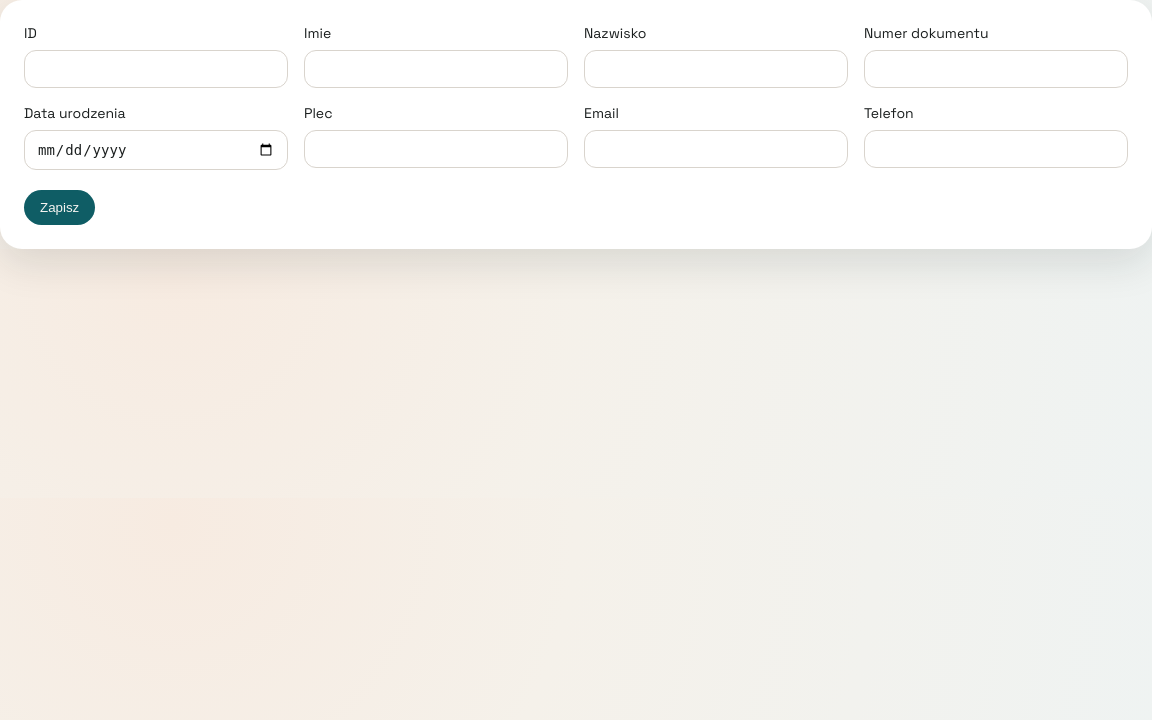
Test: T-UNIT-01: Walidacja formularza przed wyslaniem › shows error when telefon contains letters
Type "Anna" into the field labelled "Imie" at (436, 69), box [304, 50, 568, 88]
Type "Kowalska" into the field labelled "Nazwisko" at (716, 69), box [584, 50, 848, 88]
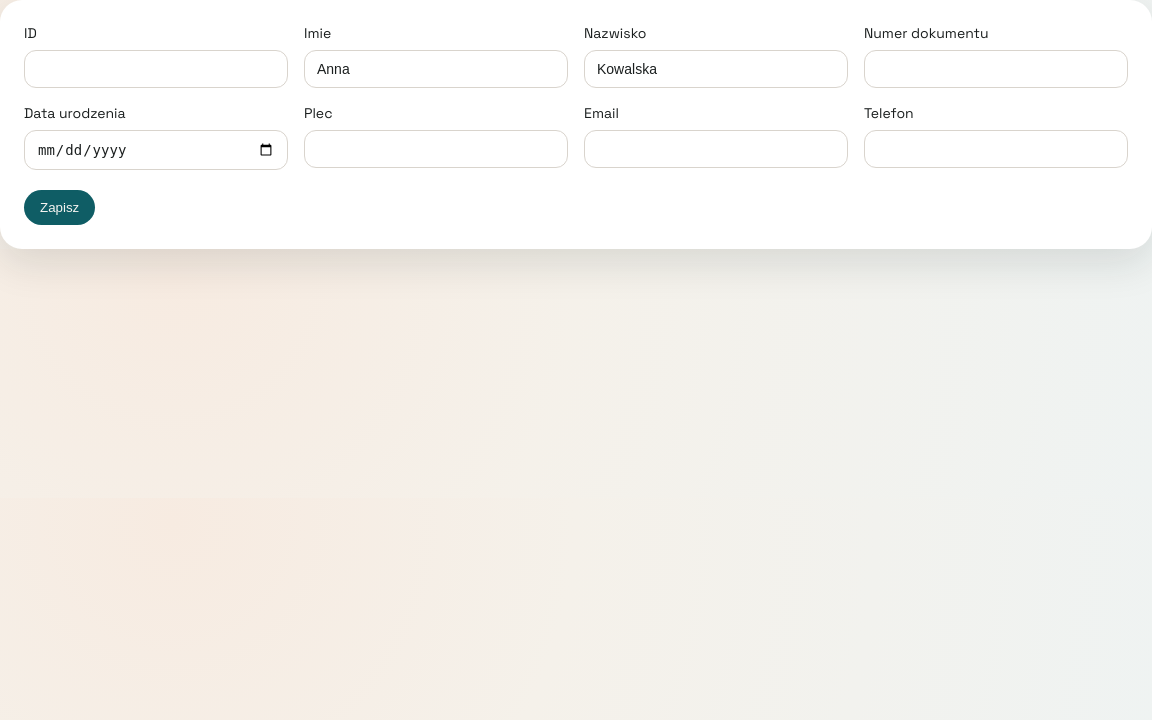
Type "ABC123456" into the field labelled "Numer dokumentu" at (996, 69), box [864, 50, 1128, 88]
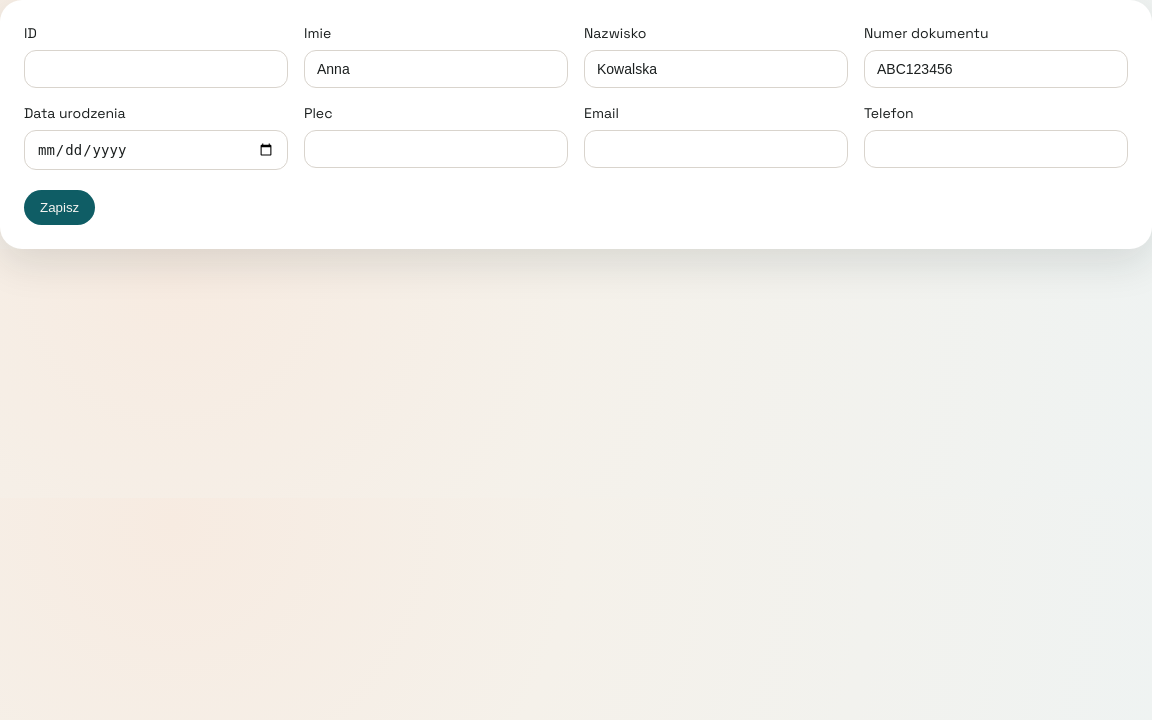
Type "1990-01-01" into the date field labelled "Data urodzenia" at (156, 150), box [24, 130, 288, 170]
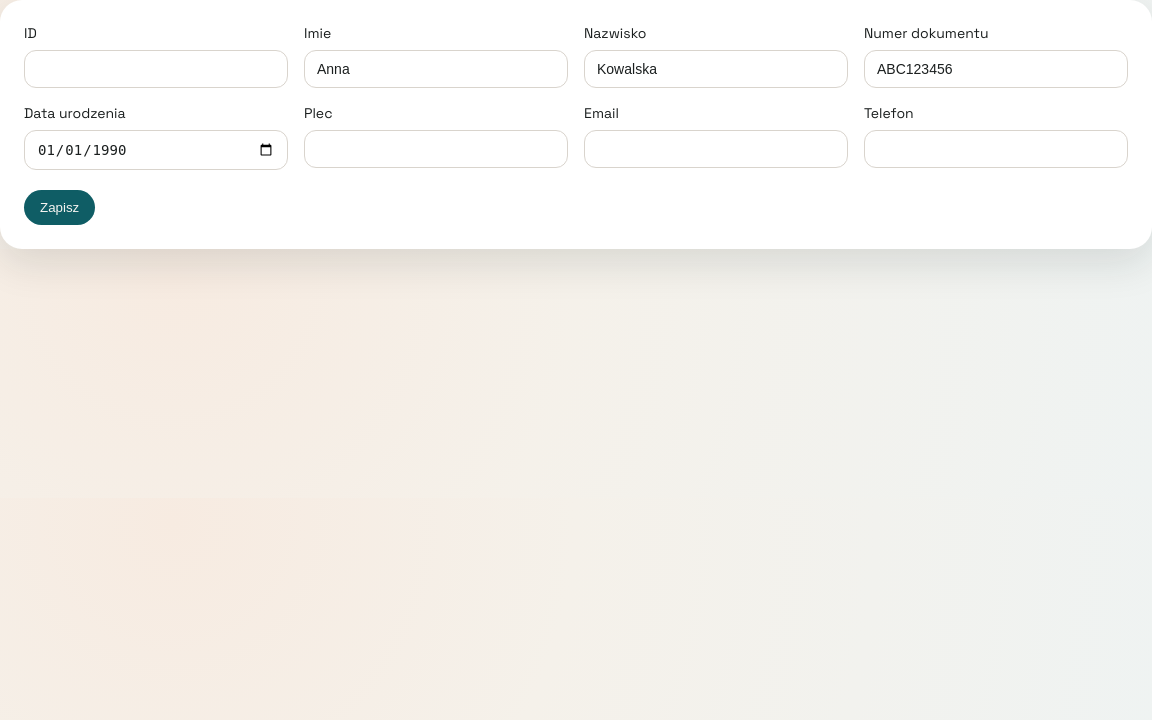
Type "K" into the field labelled "Plec" at (436, 149), box [304, 130, 568, 168]
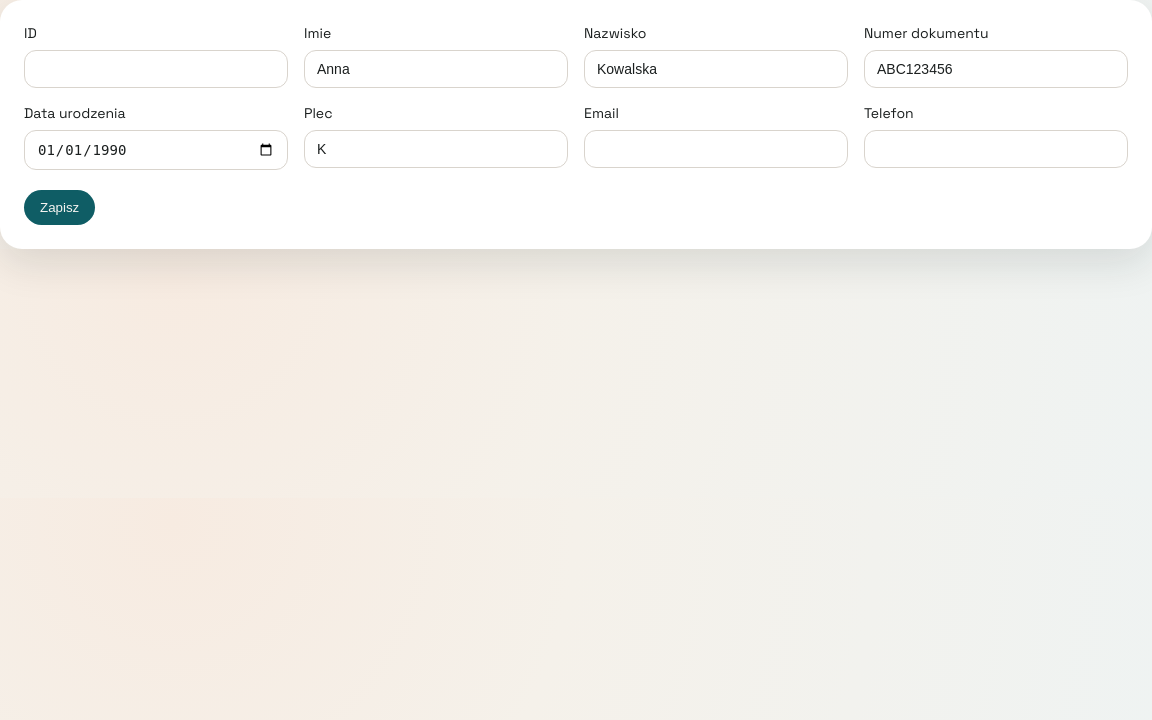
Type "abcde" into the field labelled "Telefon" at (996, 149), box [864, 130, 1128, 168]
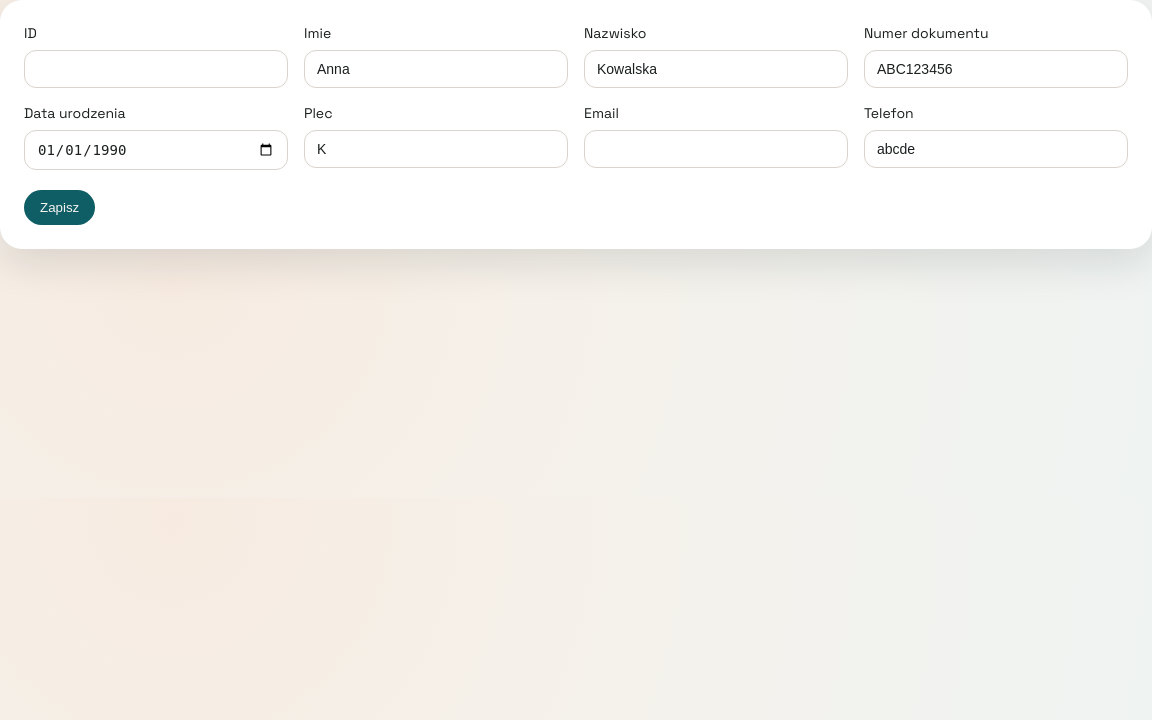
Click the button "Zapisz" at (60, 208), box [24, 190, 95, 225]
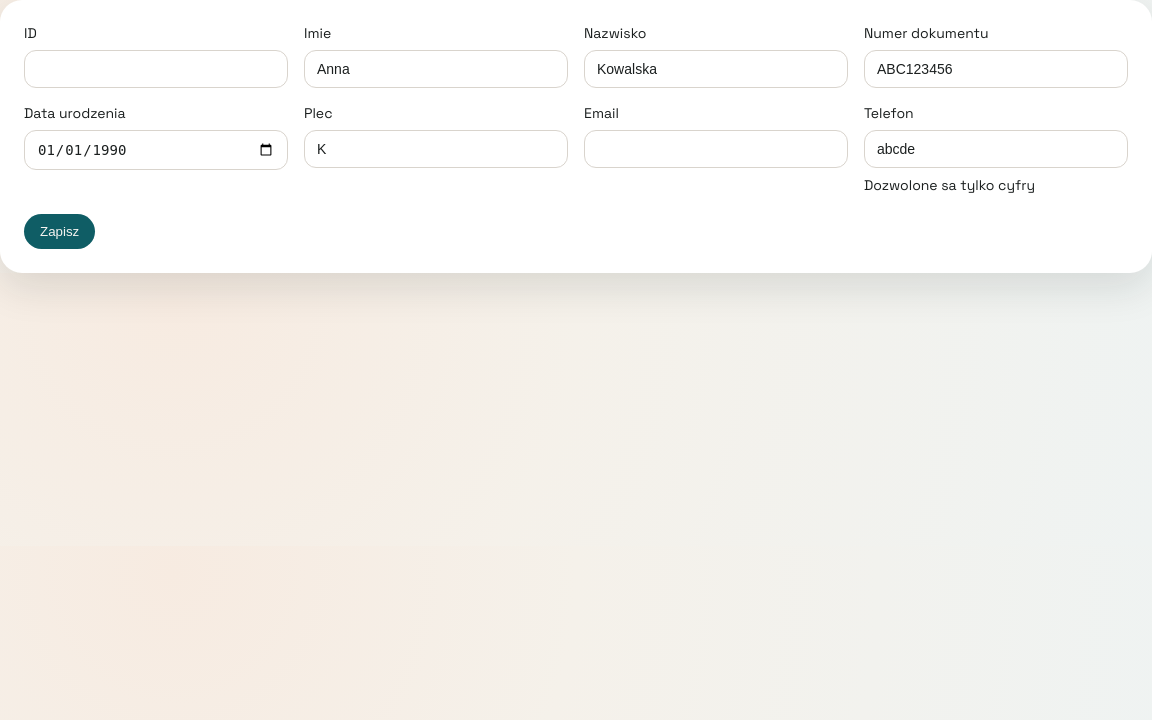
expect the text "Dozwolone sa tylko cyfry" is shown: met, box [864, 176, 1035, 194]
